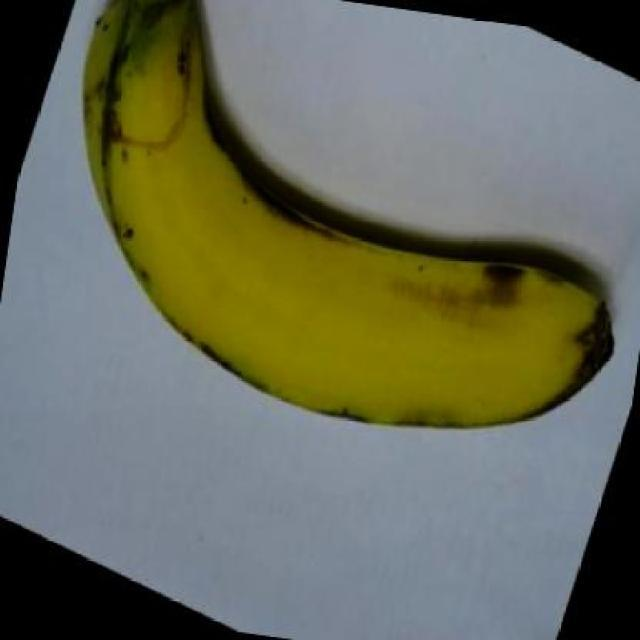ripe: (65, 0, 632, 465)
